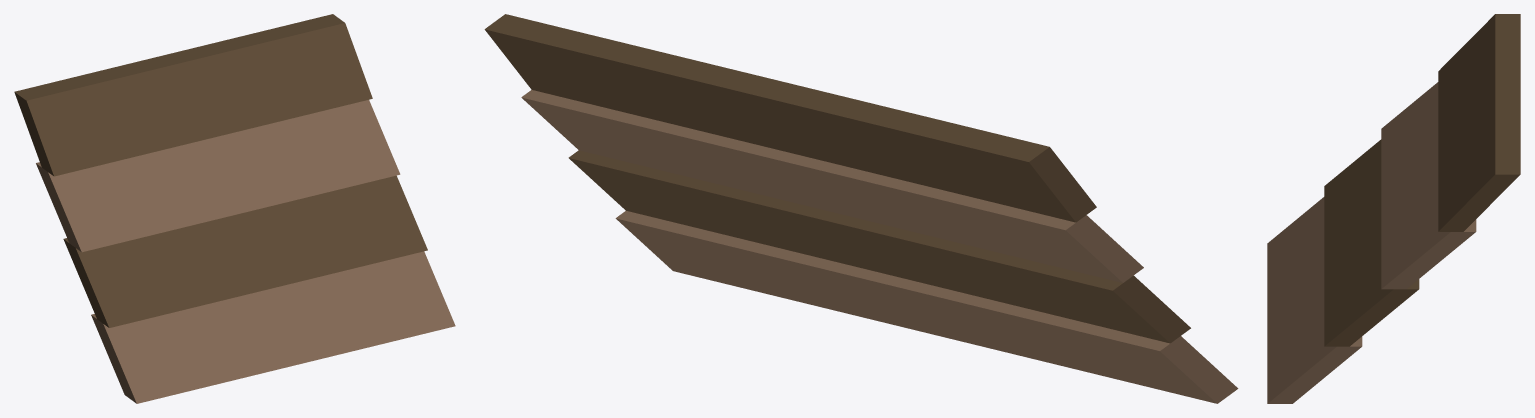
The model's file is enchantedforest_roof_wood_1.fbx.
3 views of the same model, side by side, from view 1: azimuth 30°, elevation 25°; view 2: azimuth 150°, elevation 25°; view 3: azimuth 270°, elevation 25° (orthographic). The views are drawn at different scales.
Visible parts, largest first — view 1: Cube.005; view 2: Cube.005; view 3: Cube.005.
Part boxes in pixels (x1,y1,x2,y2): Cube.005: (14, 14, 455, 403); Cube.005: (484, 14, 1238, 403); Cube.005: (1267, 14, 1520, 403).
Size of the model in its own units: 3 by 2 by 2.
